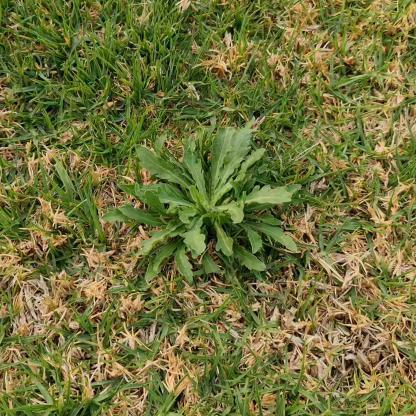Weeds: (102, 125, 302, 290)
